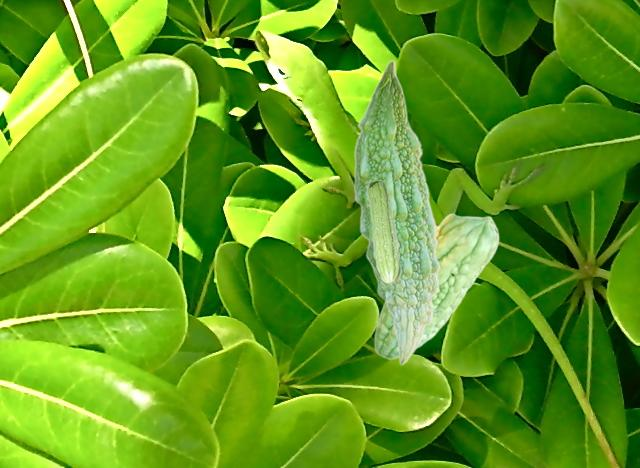ampalaya: (351, 58, 442, 366), (373, 212, 501, 360), (364, 179, 401, 285)
